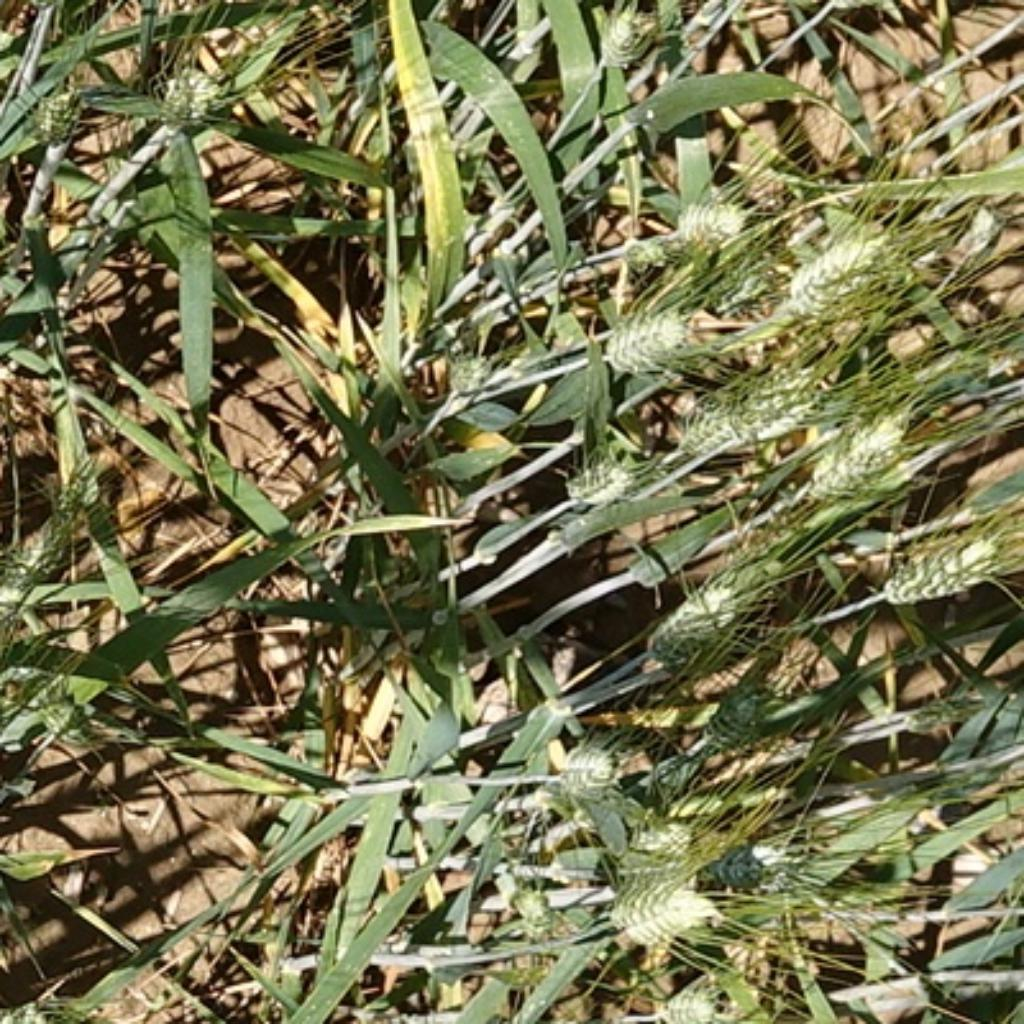0-0: (637, 533, 798, 665), (798, 384, 924, 506), (870, 506, 1024, 605), (721, 366, 878, 463), (0, 472, 93, 622), (596, 829, 716, 944), (787, 214, 907, 323), (665, 368, 788, 458), (688, 834, 811, 908), (702, 661, 800, 753), (598, 296, 708, 375), (537, 727, 629, 816), (151, 51, 246, 134), (588, 0, 678, 74), (25, 678, 107, 752), (20, 71, 91, 156), (512, 888, 597, 958), (671, 189, 747, 262), (445, 343, 524, 412), (557, 446, 644, 507), (896, 686, 995, 739), (644, 971, 728, 1024)
